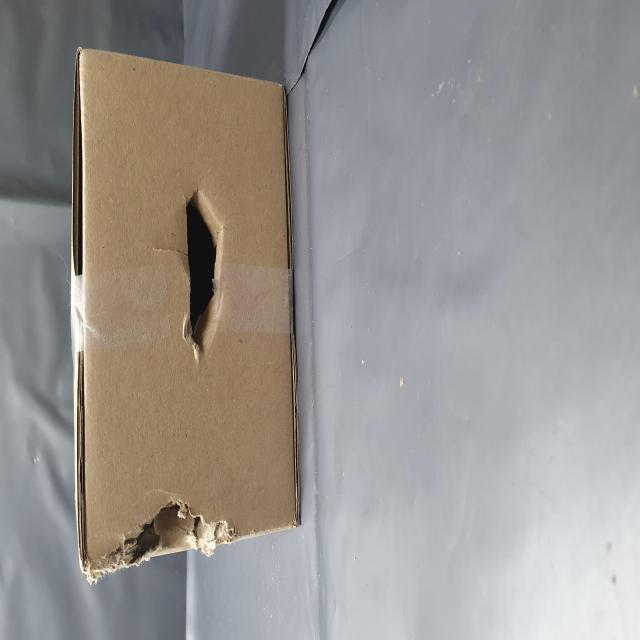damaged: (34, 158, 86, 412), (161, 315, 257, 404)
